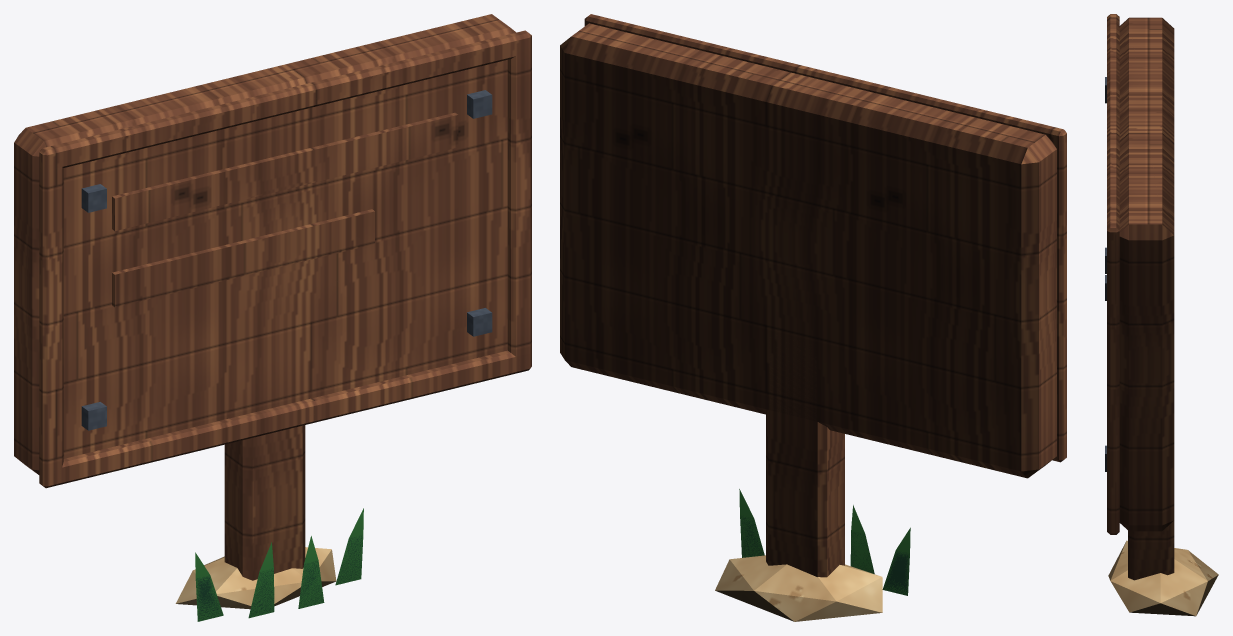
Rendered from sign.glb.
The picture shows the model from 3 angles, left to right: view 1: azimuth 30°, elevation 25°; view 2: azimuth 150°, elevation 25°; view 3: azimuth 270°, elevation 25°; orthographic projection. The views are drawn at different scales.
Parts seen in each view (by area): view 1: sign; view 2: sign; view 3: sign.
Boxes of the visible parts, bbox=[...] form: sign: bbox=[14, 14, 531, 621]; sign: bbox=[560, 14, 1066, 621]; sign: bbox=[1105, 14, 1218, 616].
Size of the model in its own units: 0.94 by 0.942 by 0.2265.
Materials: 6 (6 with a texture image).
